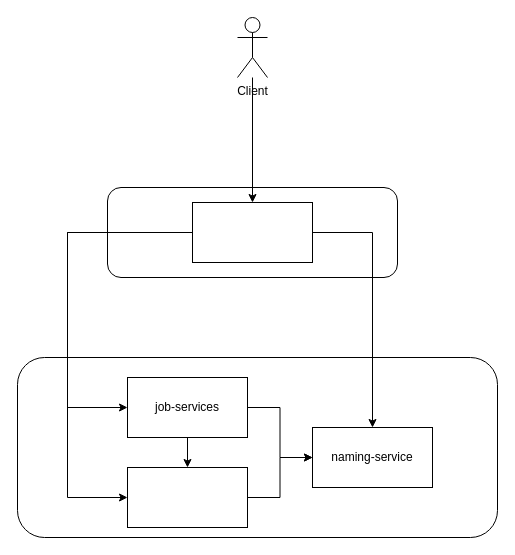
The diagram is 515 pixels wide and 555 high, and some of its shapes have lost their labels. Here are the shapes that lost their labels. From the top down, the centre of each, then its label:
At [252,232]: "api-gateway".
At [187,497]: "applicant-services".
